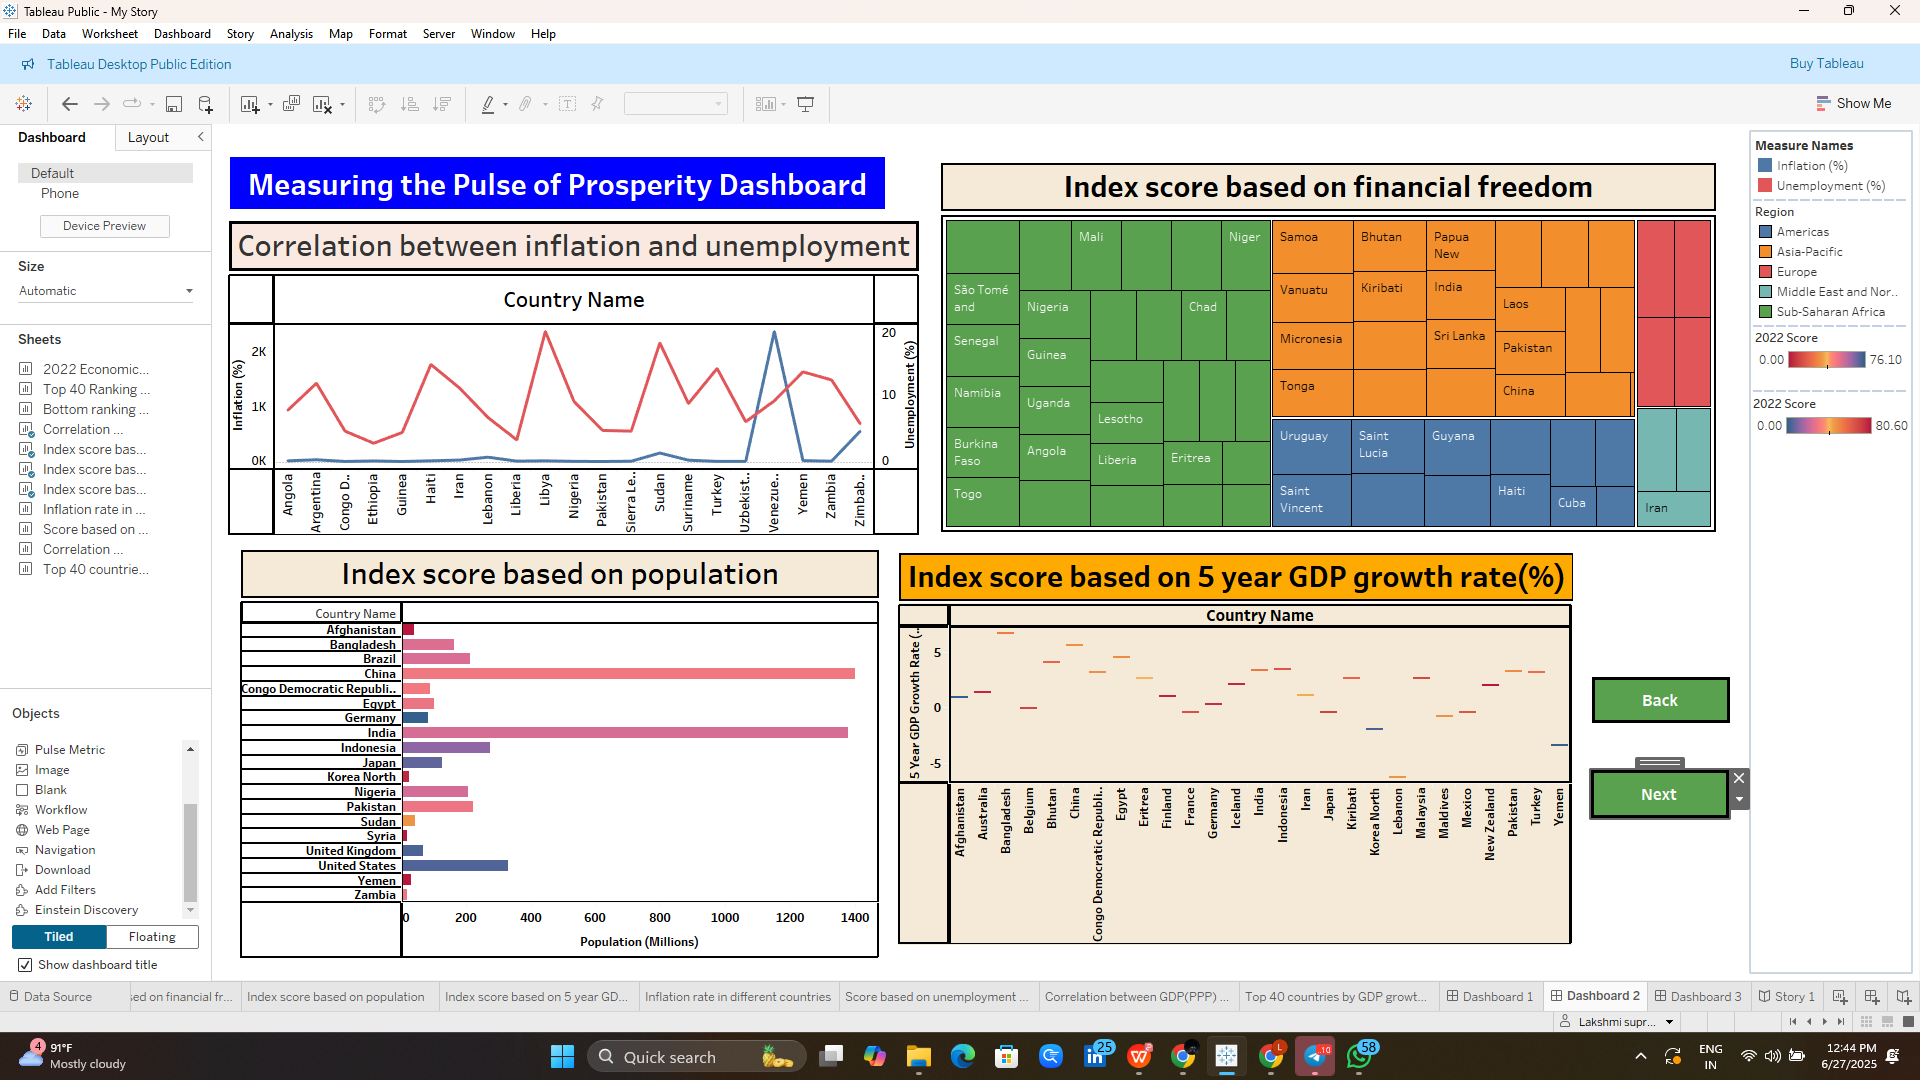

This screenshot's page, from the dashboard's own definition file:
{"tool":"tableau","page":{"name":"Dashboard 2","canvas":[1000,1000],"units":"permille","ordinal":1},"visuals":[{"type":"legend","title":"Correlation between inflation and unemployment","param":"[federated.0w3zbzs02l5cmz1c80fon0o09ncx].[:Measure Names]","box":[901.6,9.3,93.7,78.3]},{"type":"title","box":[10.5,38.6,383.7,60.8]},{"type":"worksheet","title":"Index score based on financial freedom","mark":"Automatic","box":[426.5,45.6,454.6,432.2]},{"type":"legend","title":"Index score based on financial freedom","param":"[federated.0w3zbzs02l5cmz1c80fon0o09ncx].[none:Region:nk]","box":[901.6,87.6,93.7,147.2]},{"type":"worksheet","title":"Correlation between inflation and unemployment","mark":"Line","rows":["Inflation (%)","Unemployment (%)"],"cols":["Country Name"],"box":[9.4,113.3,404.8,368]},{"type":"legend","title":"Index score based on population","param":"[federated.0w3zbzs02l5cmz1c80fon0o09ncx].[sum:2022 Score:qk]","box":[901.6,234.8,93.7,75.9]},{"type":"legend","title":"Index score based on 5 year GDP growth rate(%)","param":"[federated.0w3zbzs02l5cmz1c80fon0o09ncx].[sum:2022 Score:qk]","box":[902.8,316.6,93.7,67.8]},{"type":"worksheet","title":"Index score based on population","mark":"Automatic","rows":["Country Name"],"cols":["Population (Millions)"],"box":[16.4,497.7,374.3,476.6]},{"type":"worksheet","title":"Index score based on 5 year GDP growth rate(%)","mark":"GanttBar","rows":["5 Year GDP Growth Rate (%)"],"cols":["Country Name"],"box":[401.9,501.2,395.4,457.9]},{"type":"dashboard-object","box":[808.4,646,80.8,53.7]},{"type":"dashboard-object","box":[807.9,754.7,80.8,56.1]}]}

Visuals, with their boxes on the dashboard's canvas, which has no fixed pixel size, in thousandths of its width and height (x1, y1, x2, y2). These are canvas units, not pixel positions in the 1920x1080 screenshot, which may show the page scaled, cropped or inside an application window:
"Correlation between inflation and unemployment" legend: pyautogui.locateOnScreen(902, 9, 995, 88)
title: pyautogui.locateOnScreen(10, 39, 394, 99)
"Index score based on financial freedom" worksheet: pyautogui.locateOnScreen(426, 46, 881, 478)
"Index score based on financial freedom" legend: pyautogui.locateOnScreen(902, 88, 995, 235)
"Correlation between inflation and unemployment" worksheet (Line marks): pyautogui.locateOnScreen(9, 113, 414, 481)
"Index score based on population" legend: pyautogui.locateOnScreen(902, 235, 995, 311)
"Index score based on 5 year GDP growth rate(%)" legend: pyautogui.locateOnScreen(903, 317, 996, 384)
"Index score based on population" worksheet: pyautogui.locateOnScreen(16, 498, 391, 974)
"Index score based on 5 year GDP growth rate(%)" worksheet (GanttBar marks): pyautogui.locateOnScreen(402, 501, 797, 959)
dashboard-object: pyautogui.locateOnScreen(808, 646, 889, 700)
dashboard-object: pyautogui.locateOnScreen(808, 755, 889, 811)
